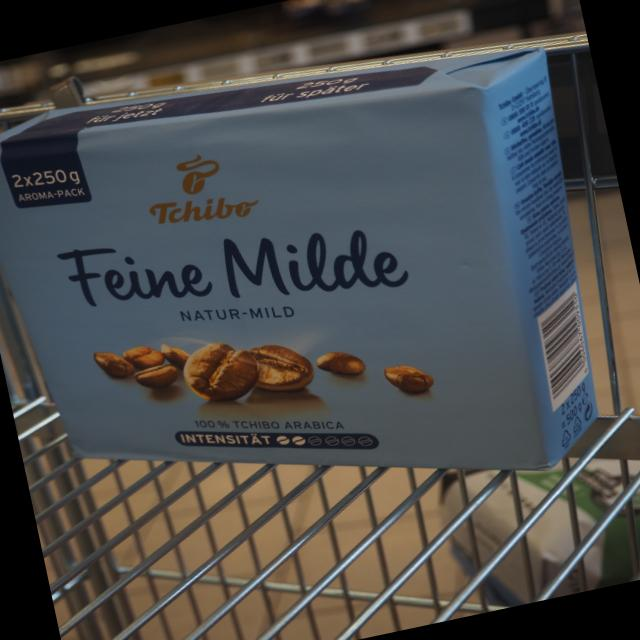FM Gemahlen: (0, 77, 556, 476)
